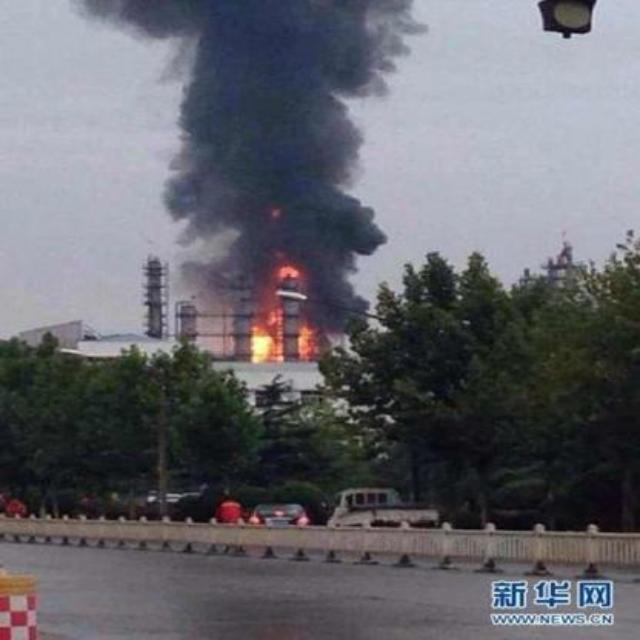Fire: (230, 246, 336, 370)
Smoke: (172, 14, 424, 250)
